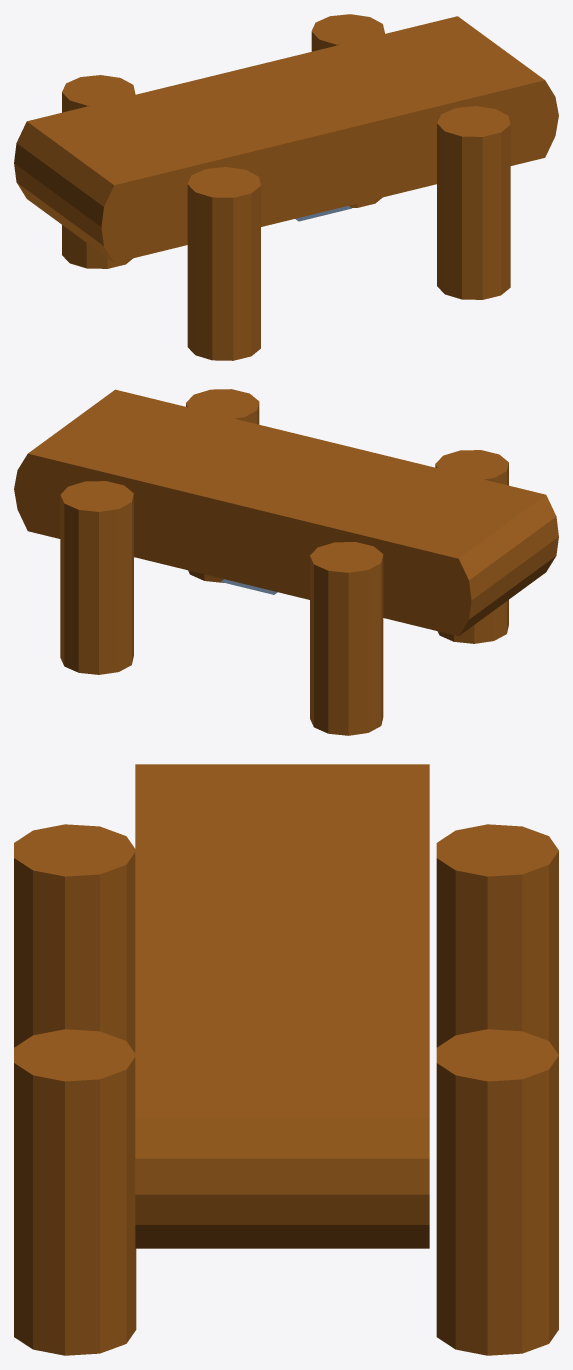
The model's file is belt.glb.
The picture shows the model from 3 angles, top to bottom: view 1: azimuth 30°, elevation 25°; view 2: azimuth 150°, elevation 25°; view 3: azimuth 270°, elevation 25°; orthographic projection. The views are drawn at different scales.
Visible parts, largest first — view 1: Plane, Cylinder.017; view 2: Plane, Cylinder.017; view 3: Plane, Cylinder.017.
Boxes of the visible parts, box(x1,y1,x2,y2) form: Plane: box(14, 16, 558, 262); Cylinder.017: box(62, 14, 510, 360); Plane: box(14, 389, 558, 636); Cylinder.017: box(60, 389, 508, 735); Plane: box(135, 764, 429, 1248); Cylinder.017: box(14, 824, 558, 1355).
Size of the model in its own units: 5.95 by 2.1 by 3.65.
